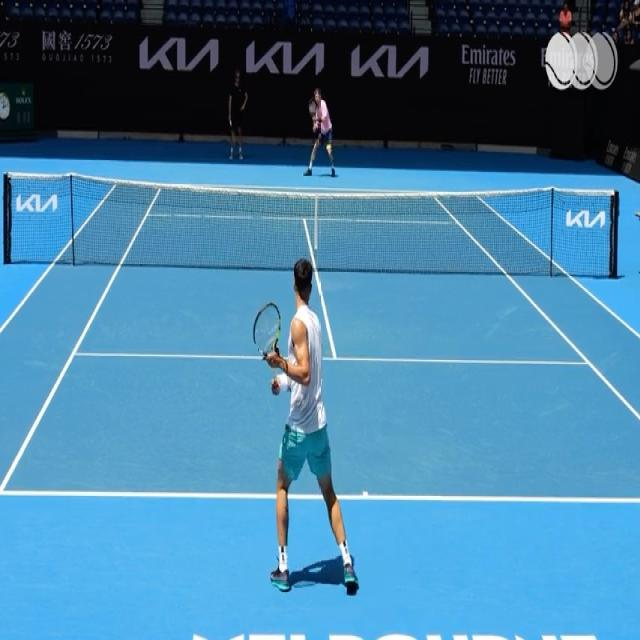forehand-finish: (247, 248, 371, 604)
